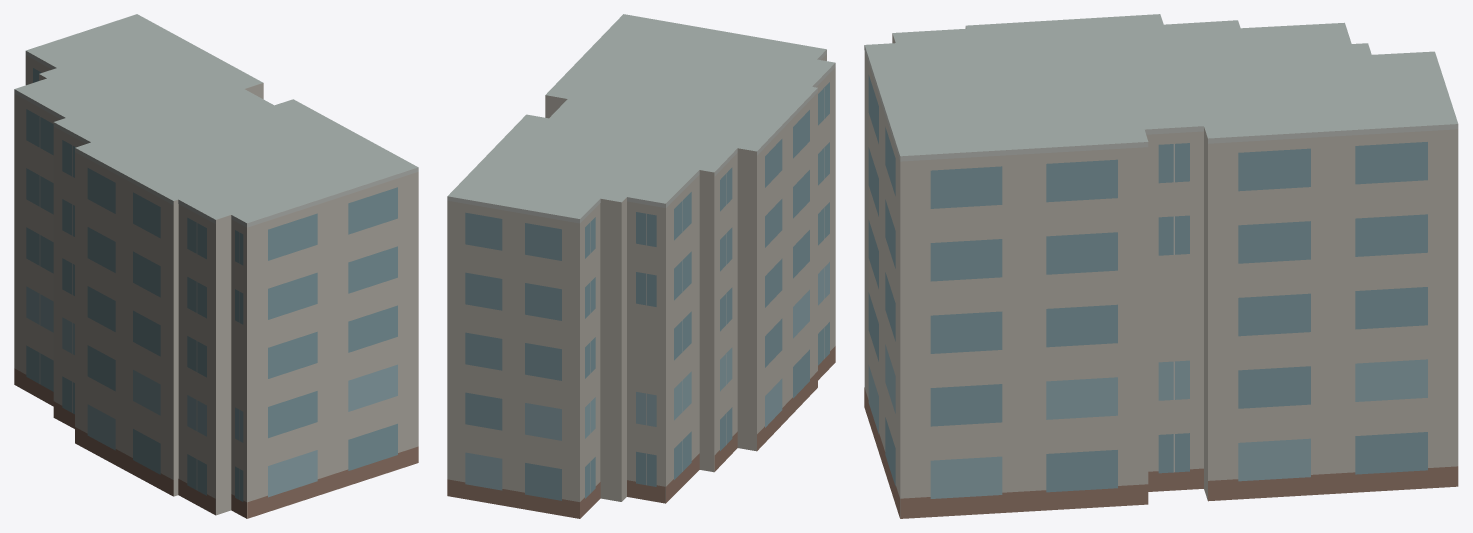
Rendered from survey-upis-32605744.glb.
The picture shows the model from 3 angles, left to right: view 1: azimuth 30°, elevation 25°; view 2: azimuth 150°, elevation 25°; view 3: azimuth 270°, elevation 25°; orthographic projection. The views are drawn at different scales.
Visible parts, largest first — view 1: survey-upis-32605744.tmp; view 2: survey-upis-32605744.tmp; view 3: survey-upis-32605744.tmp.
Boxes of the visible parts, x1=… form: survey-upis-32605744.tmp: x1=14, y1=14, x2=418, y2=518; survey-upis-32605744.tmp: x1=447, y1=14, x2=835, y2=518; survey-upis-32605744.tmp: x1=864, y1=14, x2=1458, y2=518.
Size of the model in its own units: 13.98 by 16.6 by 24.65.
